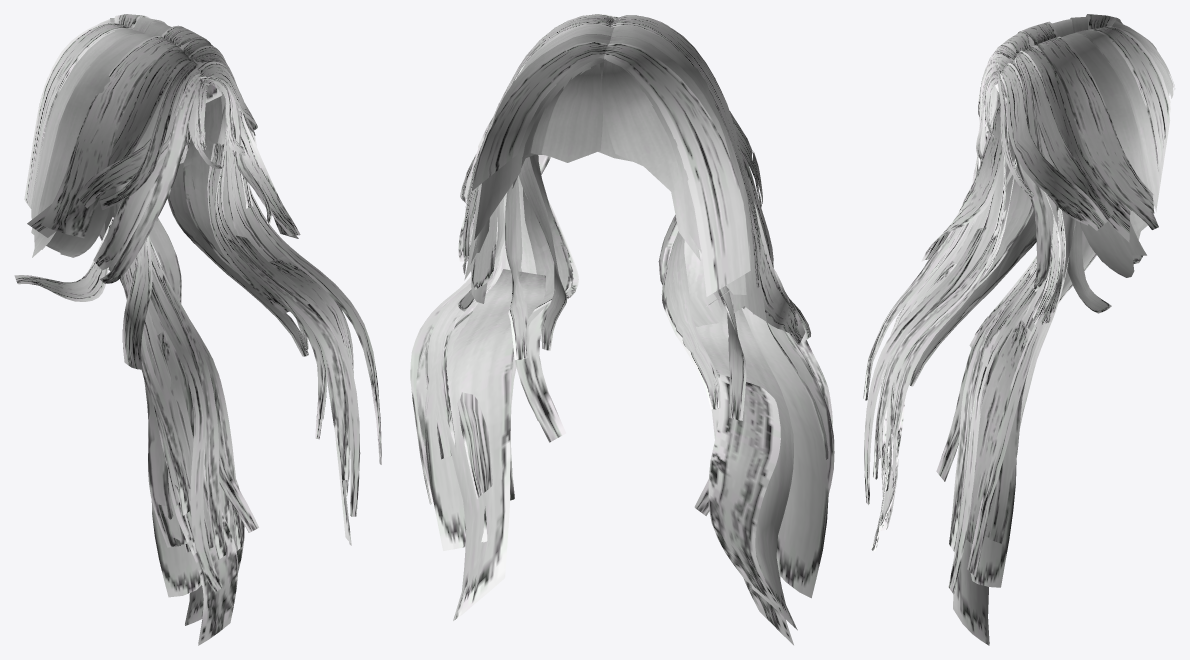
File: LongHair.glb
3 renders of one model, left to right at view 1: azimuth 30°, elevation 25°; view 2: azimuth 150°, elevation 25°; view 3: azimuth 270°, elevation 25°, orthographic. The views are drawn at different scales.
Parts seen in each view (by area): view 1: obj3, obj4, obj1, obj2, obj5, obj8, obj7; view 2: obj1, obj2, obj4, obj5, obj3, obj9, obj7, obj8; view 3: obj4, obj3, obj1, obj2, obj8, obj9, obj5, obj7.
Part boxes in pixels (x1,y1,x2,y2): obj3: (41,25,353,560); obj4: (14,14,381,592); obj1: (31,14,348,597); obj2: (99,97,351,625); obj5: (168,125,244,645); obj8: (93,60,353,368); obj7: (135,257,193,547); obj1: (424,22,828,598); obj2: (445,154,797,630); obj4: (410,14,810,515); obj5: (708,374,793,645); obj3: (457,14,832,500); obj9: (425,194,506,459); obj7: (766,322,834,493); obj8: (416,151,773,450); obj4: (864,14,1170,594); obj3: (863,21,1158,551); obj1: (883,16,1175,587); obj2: (879,128,1096,645); obj8: (978,64,1058,543); obj9: (981,258,1068,537); obj5: (871,121,986,551); obj7: (925,91,997,314).
Size of the model in its own units: 5.3 by 8.14 by 4.23.
1 material, 1 textured.
